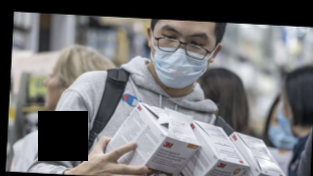with_mask: (150, 23, 214, 90), (266, 111, 298, 150), (276, 90, 297, 138)
without_mask: (41, 67, 63, 115)
